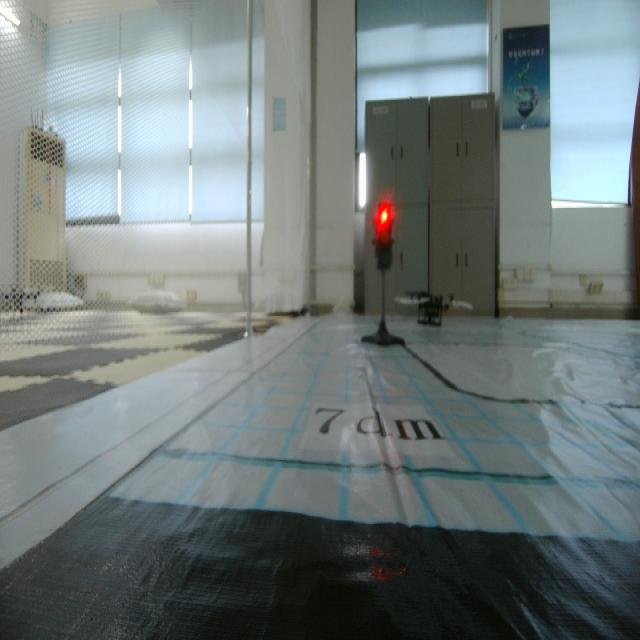red: (370, 193, 393, 276)
